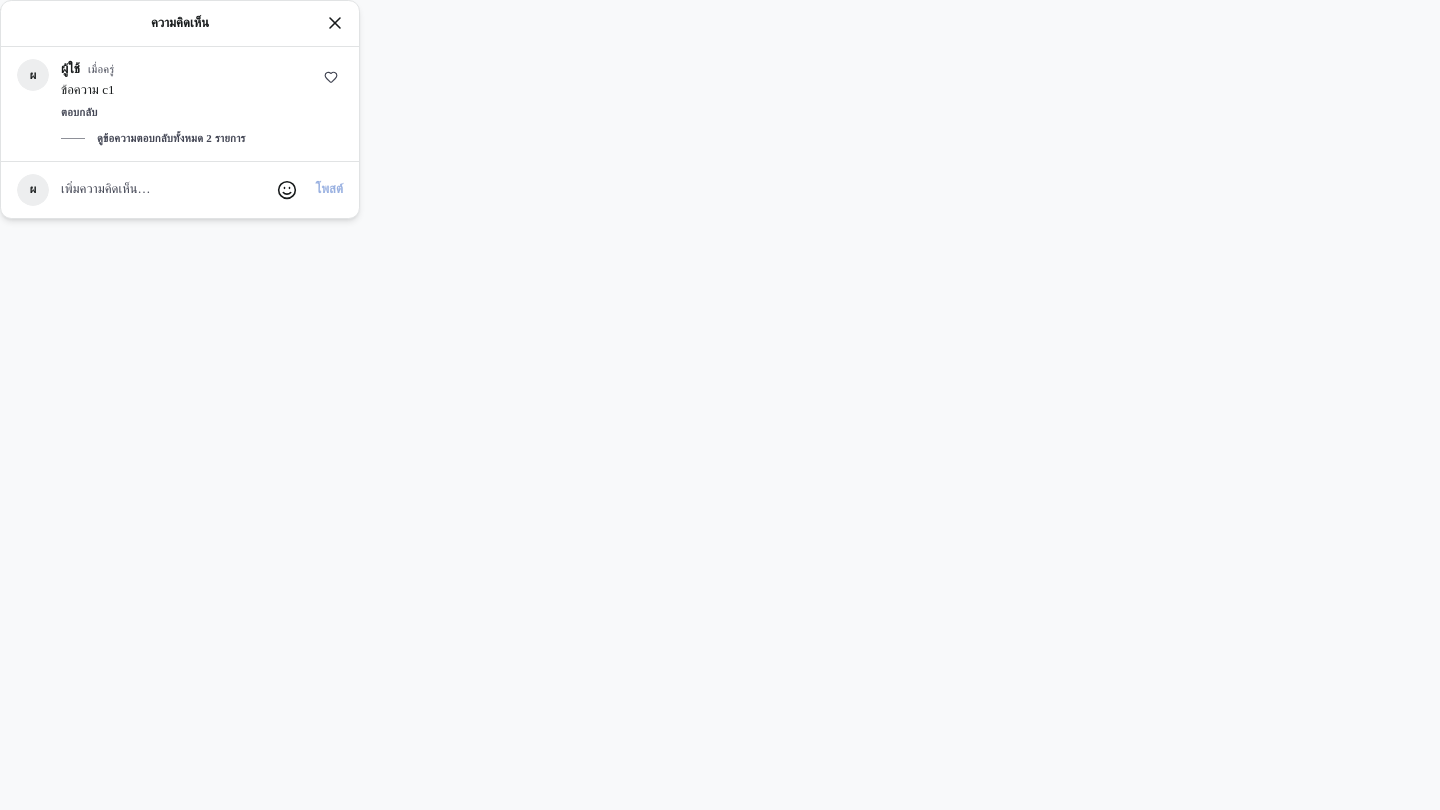
แผงความคิดเห็น › "ดูข้อความตอบกลับทั้งหมด n รายการ" → ขอคำตอบด้วย parentId แล้วกลายเป็น "ซ่อนข้อความตอบกลับ"
The width and height of the screenshot is (1440, 810).
Click the button "ดูข้อความตอบกลับทั้งหมด 2 รายการ".
click(153, 139)  # box 61,130 -> 246,148
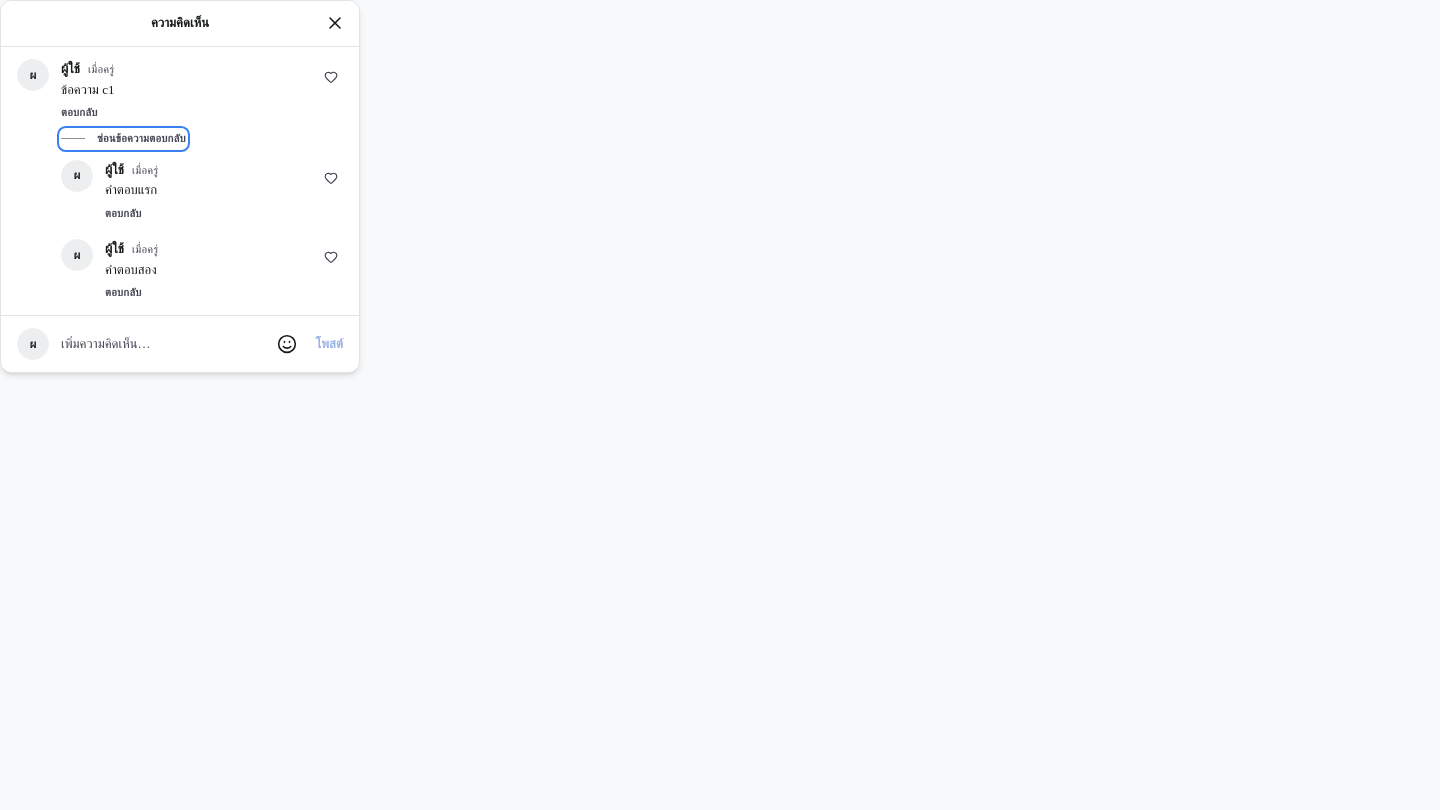
Expected: the text "คำตอบแรก" is shown, 105,182 -> 157,197
Expected: the button "ซ่อนข้อความตอบกลับ" is shown
Click the button "ซ่อนข้อความตอบกลับ".
click(123, 139)  # box 61,130 -> 186,148
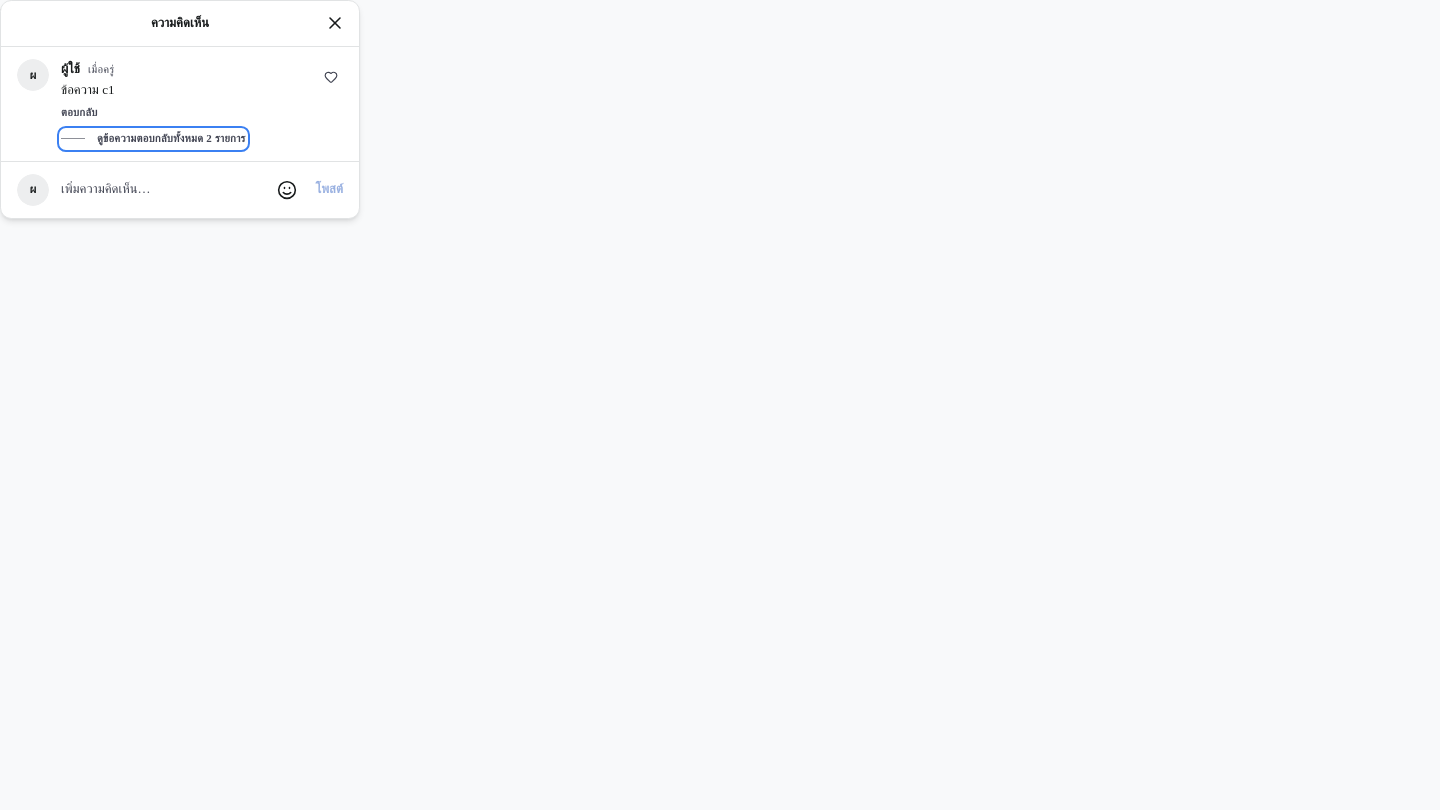
Expected: the text "คำตอบแรก" is gone
